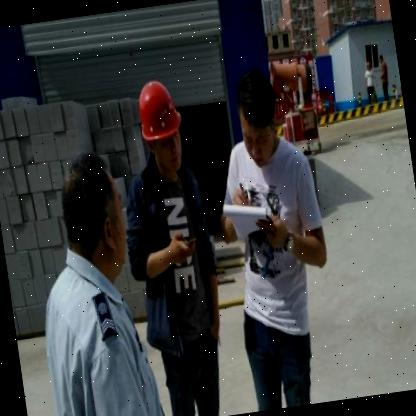capacete: (132, 74, 190, 182)
sem_capacete: (53, 143, 136, 297), (230, 66, 286, 170)
sem_colete_refletivo: (207, 129, 331, 322), (34, 248, 167, 415), (122, 161, 228, 361)
